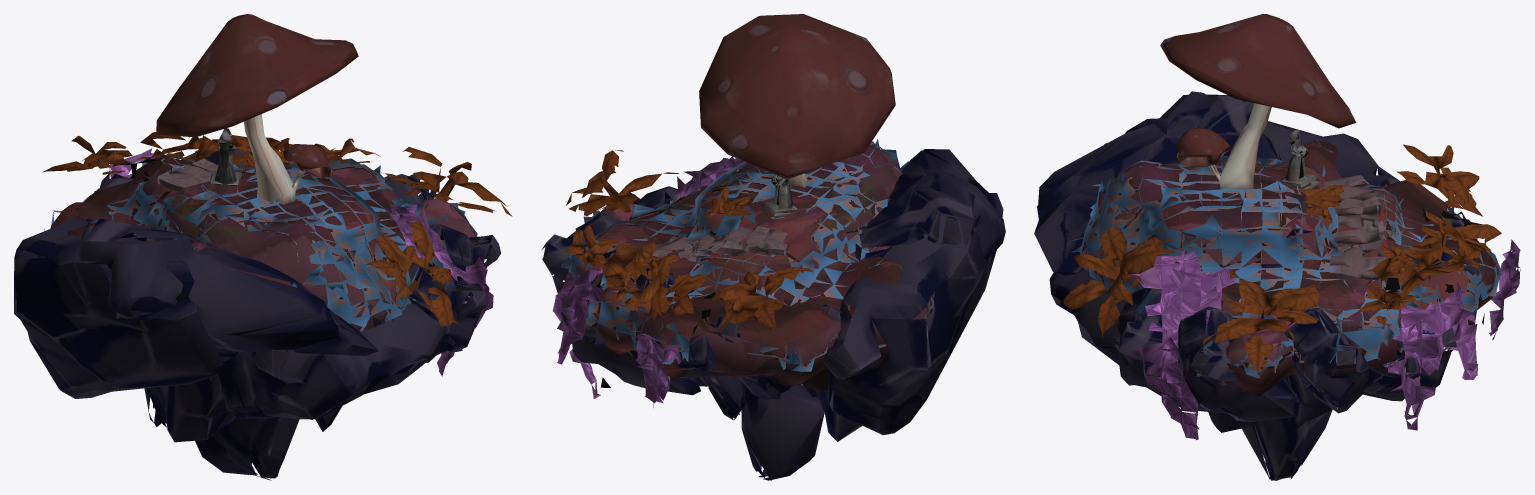
File: ilha-alien.glb
3 views of the same model, side by side, from view 1: azimuth 30°, elevation 25°; view 2: azimuth 150°, elevation 25°; view 3: azimuth 270°, elevation 25° (orthographic). The views are drawn at different scales.
Visible parts, largest first — view 1: m; view 2: m; view 3: m.
Part boxes in pixels (x1,y1,x2,y2): m: (14,14,512,480); m: (541,14,1005,480); m: (1034,14,1520,480).
Bounding box in the file's own units: 14.07 × 14.62 × 14.24.
Materials: 8 (8 with a texture image).
